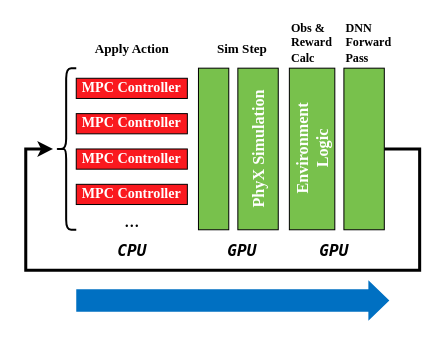
The diagram is 446 pixels wide and 337 high, and some of its shapes have lost their labels. Each missing label, with the centre of its shape:
IsaacGym API: point 213,148
Learning Framework: point 363,148
Time: point 232,300
